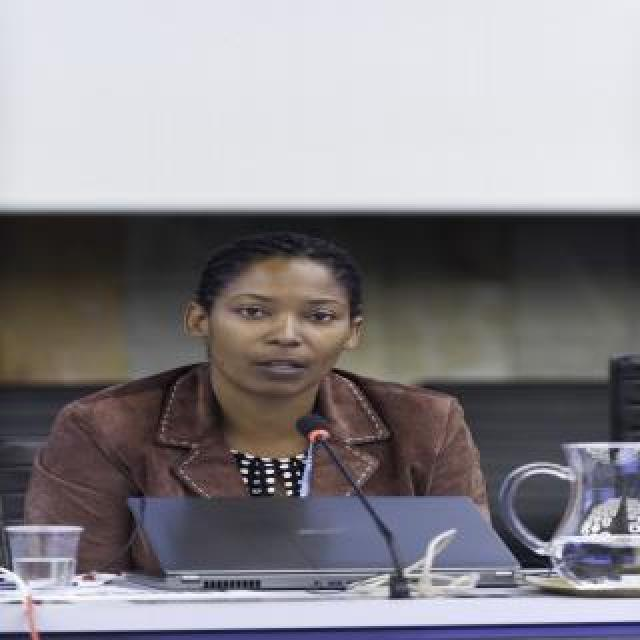laptop_computer: (95, 485, 556, 620)
